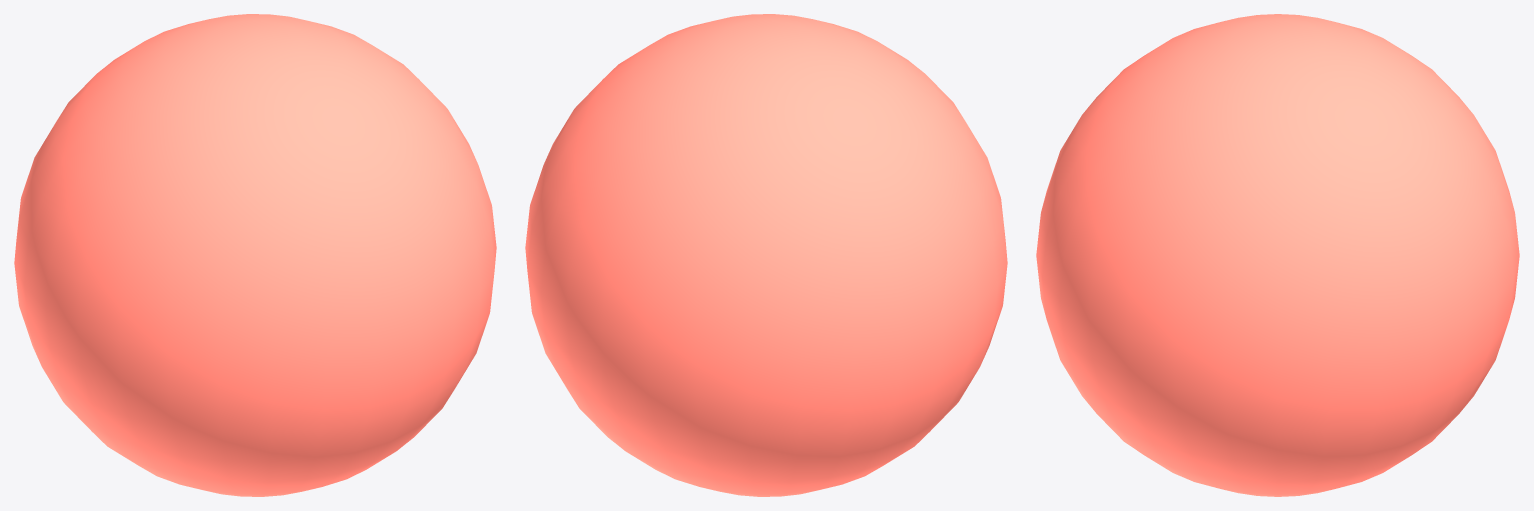
File: Orb_01_赤红灵珠.glb
The picture shows the model from 3 angles, left to right: view 1: azimuth 30°, elevation 25°; view 2: azimuth 150°, elevation 25°; view 3: azimuth 270°, elevation 25°; orthographic projection.
Visible parts, largest first — view 1: Sphere; view 2: Sphere; view 3: Sphere.
Boxes of the visible parts, bbox=[...] form: Sphere: bbox=[14, 14, 496, 496]; Sphere: bbox=[525, 14, 1007, 496]; Sphere: bbox=[1036, 14, 1519, 496].
Bounding box in the file's own units: 0.96 × 0.96 × 0.96.
